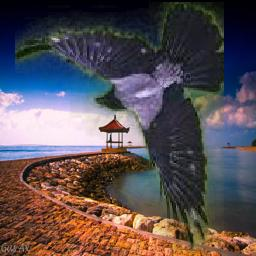Crow: (16, 2, 225, 254)
